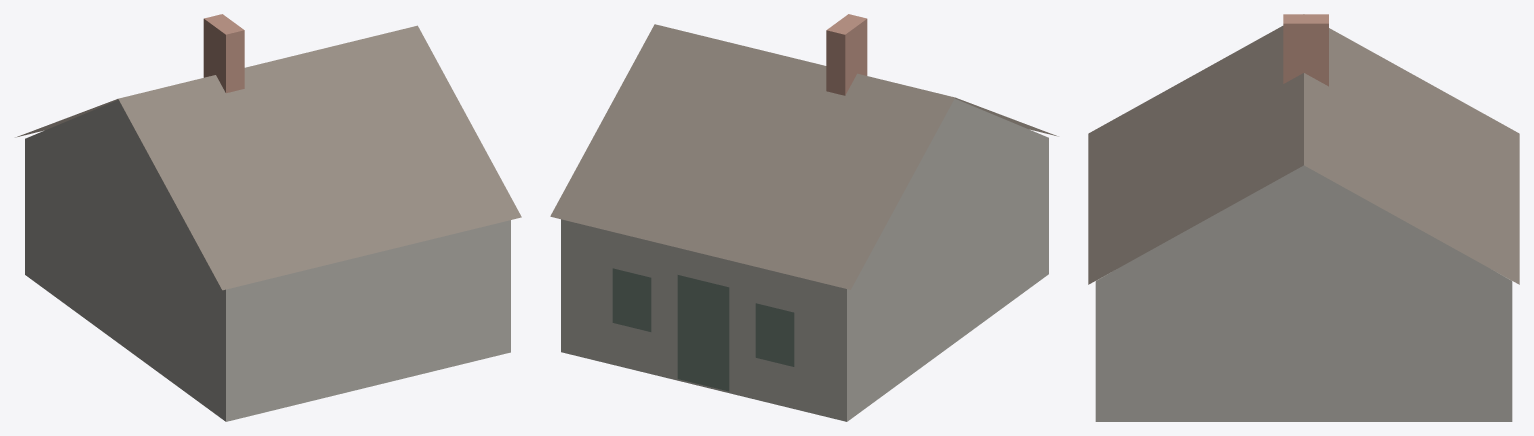
The model's file is recon_1835_north_d1_053__recommended_1835.glb.
3 views of the same model, side by side, from view 1: azimuth 30°, elevation 25°; view 2: azimuth 150°, elevation 25°; view 3: azimuth 270°, elevation 25° (orthographic). The views are drawn at different scales.
Visible parts, largest first — view 1: recon_1835_north_d1_053__recommended_1835; view 2: recon_1835_north_d1_053__recommended_1835; view 3: recon_1835_north_d1_053__recommended_1835.
Boxes of the visible parts, <box> form: recon_1835_north_d1_053__recommended_1835: <box>15,14,521,421</box>; recon_1835_north_d1_053__recommended_1835: <box>550,14,1058,421</box>; recon_1835_north_d1_053__recommended_1835: <box>1088,14,1519,421</box>.
Size of the model in its own units: 5.77 by 5.5 by 6.95.
